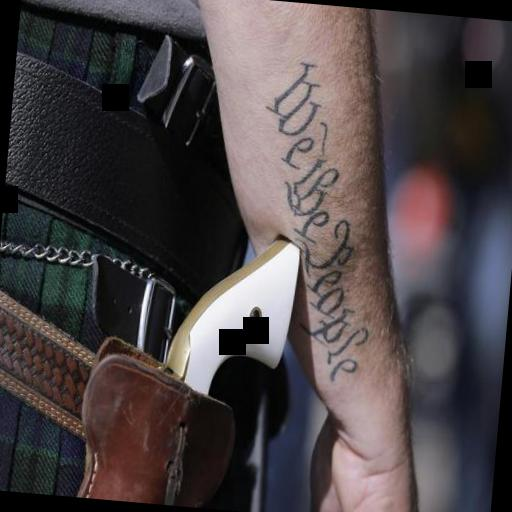Handgun: (62, 225, 306, 512)
